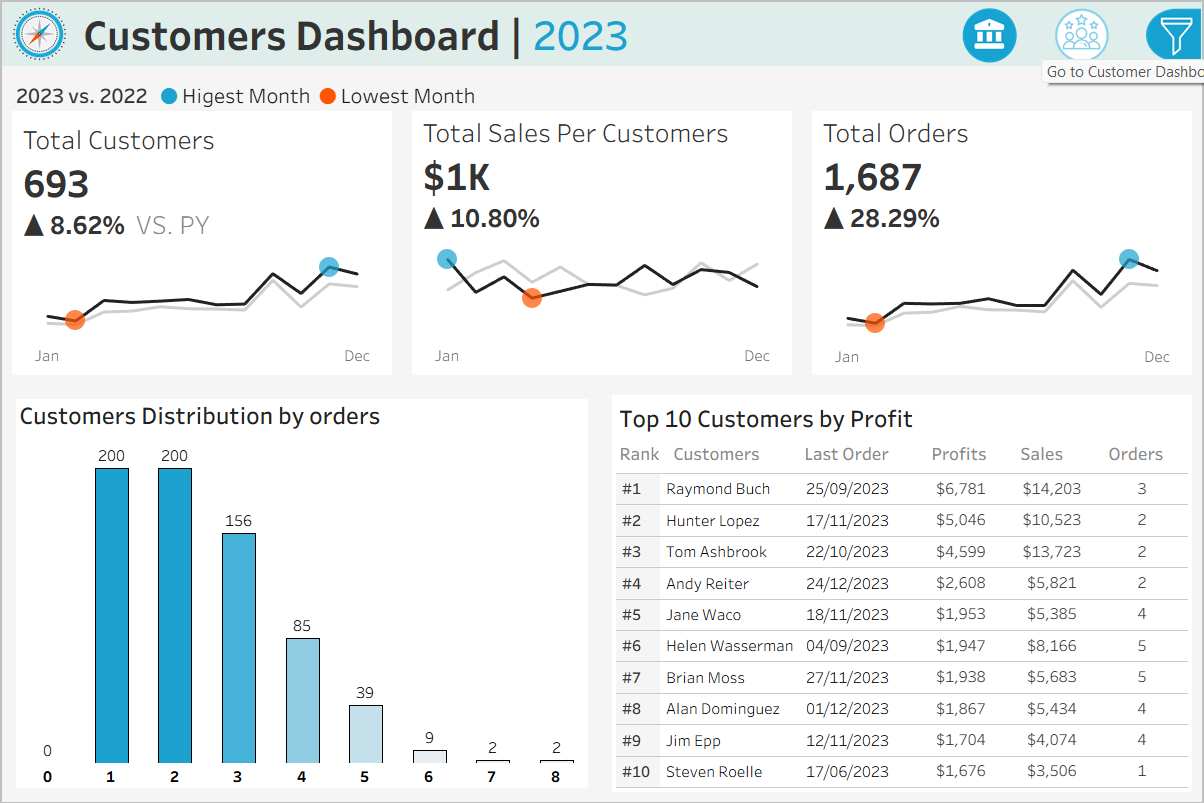

The page's visual inventory and layout, read from the dashboard file:
{"tool":"tableau","page":{"name":"Customers Dashboard","canvas":[1200,800],"ordinal":0},"visuals":[{"type":"image","param":"Image/Icon - Logo.png","box":[0,0,74,64]},{"type":"text","box":[74,0,1126,64]},{"type":"dashboard-object","box":[941,1,92,64]},{"type":"dashboard-object","box":[1033,1,92,64]},{"type":"worksheet","title":"Ledgend of KPI","mark":"Automatic","box":[0,64,1200,45]},{"type":"blank","box":[955,64,244,32]},{"type":"text","box":[955,96,244,40]},{"type":"worksheet","title":"KPI Customers","mark":"Automatic","rows":["Calculation_786441125152256010"],"cols":["Order Date"],"box":[0,109,400,274]},{"type":"worksheet","title":"KPI Sales Per Customers","mark":"Automatic","rows":["Calculation_786441125164072976"],"cols":["Order Date"],"box":[400,109,400,274]},{"type":"worksheet","title":"KPI Orders","mark":"Line","rows":["Calculation_786441125171720216"],"cols":["Order Date"],"box":[800,109,400,274]},{"type":"blank","box":[955,136,244,32]},{"type":"parameter","param":"[Parameters].[Parameter 1]","box":[955,168,244,56]},{"type":"blank","box":[955,224,244,40]},{"type":"text","box":[955,264,244,36]},{"type":"filter","title":"KPI Customers","param":"[federated.0gbm3qa101q3og1h2bc7u1m1cbze].[none:Category:nk]","box":[955,300,244,61]},{"type":"filter","title":"KPI Customers","param":"[federated.0gbm3qa101q3og1h2bc7u1m1cbze].[none:Sub-Category:nk]","box":[955,361,244,61]},{"type":"text","box":[10,393,580,36]},{"type":"text","box":[610,393,580,42]},{"type":"text","box":[955,422,244,36]},{"type":"worksheet","title":"Customers Distribution","mark":"Bar","rows":["Calculation_786441125151547400"],"cols":["Calculation_786441125178482715"],"box":[10,429,580,361]},{"type":"text","box":[610,435,54,32]},{"type":"text","box":[664,435,131,32]},{"type":"text","box":[795,435,127,32]},{"type":"text","box":[922,435,89,32]},{"type":"text","box":[1011,435,88,32]},{"type":"text","box":[1099,435,91,32]},{"type":"filter","title":"KPI Customers","param":"[federated.0gbm3qa101q3og1h2bc7u1m1cbze].[none:Region:nk]","box":[955,458,244,61]},{"type":"worksheet","title":"Top Customers","mark":"Automatic","rows":["Calculation_1542482917298958342","Customer Name","Order Date"],"box":[610,467,580,323]},{"type":"filter","title":"KPI Customers","param":"[federated.0gbm3qa101q3og1h2bc7u1m1cbze].[none:State:nk]","box":[955,519,244,61]},{"type":"filter","title":"KPI Customers","param":"[federated.0gbm3qa101q3og1h2bc7u1m1cbze].[none:City:nk]","box":[955,580,244,61]},{"type":"legend","title":"KPI Customers","param":"[federated.0gbm3qa101q3og1h2bc7u1m1cbze].[:Measure Names]","box":[955,641,244,72]}]}

Visuals, with their boxes in screenshot pixels (x1, y1, x2, y2), scaled from the page's 1200x800 canvas onto the 1204x803 screenshot:
image: (0,0,74,64)
text: (74,0,1203,64)
dashboard-object: (944,1,1036,65)
dashboard-object: (1036,1,1129,65)
"Ledgend of KPI" worksheet: (0,64,1203,109)
blank: (958,64,1203,96)
text: (958,96,1203,137)
"KPI Customers" worksheet: (0,109,401,384)
"KPI Sales Per Customers" worksheet: (401,109,803,384)
"KPI Orders" worksheet (Line marks): (803,109,1203,384)
blank: (958,137,1203,169)
parameter: (958,169,1203,225)
blank: (958,225,1203,265)
text: (958,265,1203,301)
"KPI Customers" filter: (958,301,1203,362)
"KPI Customers" filter: (958,362,1203,424)
text: (10,394,592,431)
text: (612,394,1194,437)
text: (958,424,1203,460)
"Customers Distribution" worksheet (Bar marks): (10,431,592,793)
text: (612,437,666,469)
text: (666,437,798,469)
text: (798,437,925,469)
text: (925,437,1014,469)
text: (1014,437,1103,469)
text: (1103,437,1194,469)
"KPI Customers" filter: (958,460,1203,521)
"Top Customers" worksheet: (612,469,1194,793)
"KPI Customers" filter: (958,521,1203,582)
"KPI Customers" filter: (958,582,1203,643)
"KPI Customers" legend: (958,643,1203,716)
